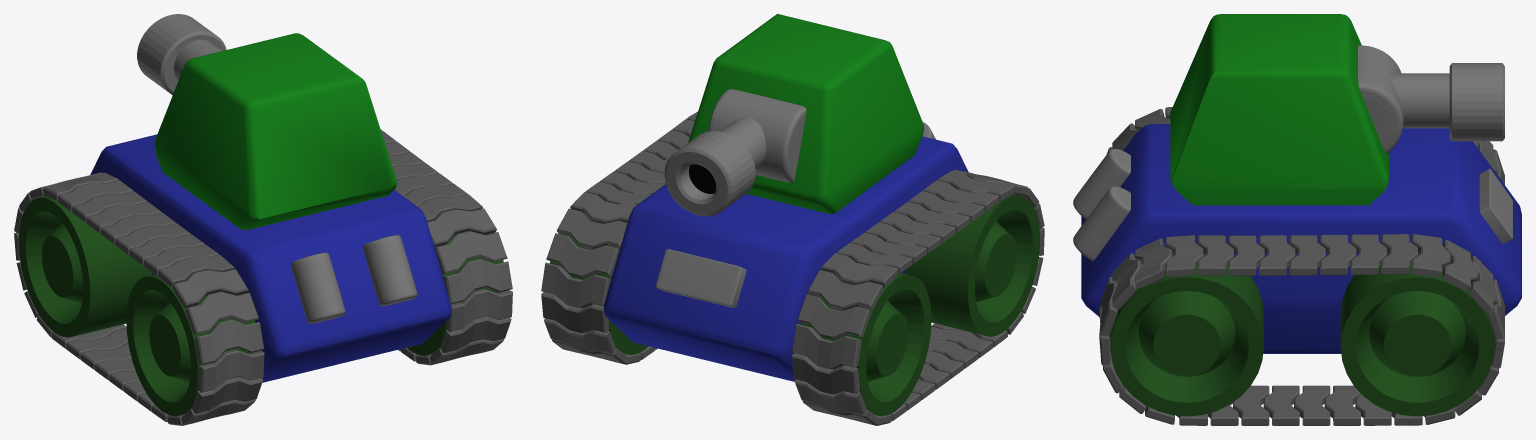
Rendered from TS_PCTank_8.fbx.
3 renders of one model, left to right at view 1: azimuth 30°, elevation 25°; view 2: azimuth 150°, elevation 25°; view 3: azimuth 270°, elevation 25°, orthographic. The views are drawn at different scales.
Visible parts, largest first — view 1: Turret, Body, CTPL_L, CTPL_R, Wheel_FL, Wheel_RL, Muzzle, BackPipe_L, BackPipe_R, Wheel_RR, Barrel; view 2: Body, Turret, CTPL_L, CTPL_R, Wheel_RL, Wheel_FL, Muzzle, UDRotator, BodyPanel, Barrel, Wheel_FR, BrlShadow; view 3: Turret, Body, CTPL_R, Wheel_FR, Wheel_RR, Muzzle, UDRotator, Barrel, BackPipe_R, BackPipe_L, BodyPanel, CTPL_L.
Boxes of the visible parts, x1,y1,x2,y2 form: Turret: [154, 33, 396, 229]; Body: [90, 134, 451, 382]; CTPL_L: [14, 172, 264, 425]; CTPL_R: [380, 129, 512, 365]; Wheel_FL: [18, 196, 152, 337]; Wheel_RL: [126, 274, 259, 416]; Muzzle: [137, 14, 226, 95]; BackPipe_L: [291, 252, 345, 324]; BackPipe_R: [363, 235, 417, 306]; Wheel_RR: [407, 235, 507, 355]; Barrel: [174, 39, 221, 80]; Body: [603, 136, 968, 381]; Turret: [688, 14, 923, 213]; CTPL_L: [792, 170, 1044, 425]; CTPL_R: [541, 111, 697, 364]; Wheel_RL: [905, 194, 1040, 336]; Wheel_FL: [800, 273, 931, 416]; Muzzle: [664, 131, 755, 216]; UDRotator: [708, 89, 806, 182]; BodyPanel: [656, 249, 746, 307]; Barrel: [720, 117, 766, 168]; Wheel_FR: [549, 218, 648, 354]; BrlShadow: [689, 164, 715, 193]; Turret: [1170, 14, 1388, 205]; Body: [1081, 124, 1521, 353]; CTPL_R: [1099, 234, 1504, 425]; Wheel_FR: [1340, 252, 1494, 416]; Wheel_RR: [1110, 253, 1263, 416]; Muzzle: [1449, 63, 1504, 141]; UDRotator: [1358, 45, 1403, 153]; Barrel: [1390, 73, 1449, 128]; BackPipe_R: [1073, 186, 1130, 261]; BackPipe_L: [1073, 149, 1130, 219]; BodyPanel: [1479, 168, 1512, 244]; CTPL_L: [1106, 107, 1504, 184].
Size of the model in its own units: 325 by 284 by 380.
